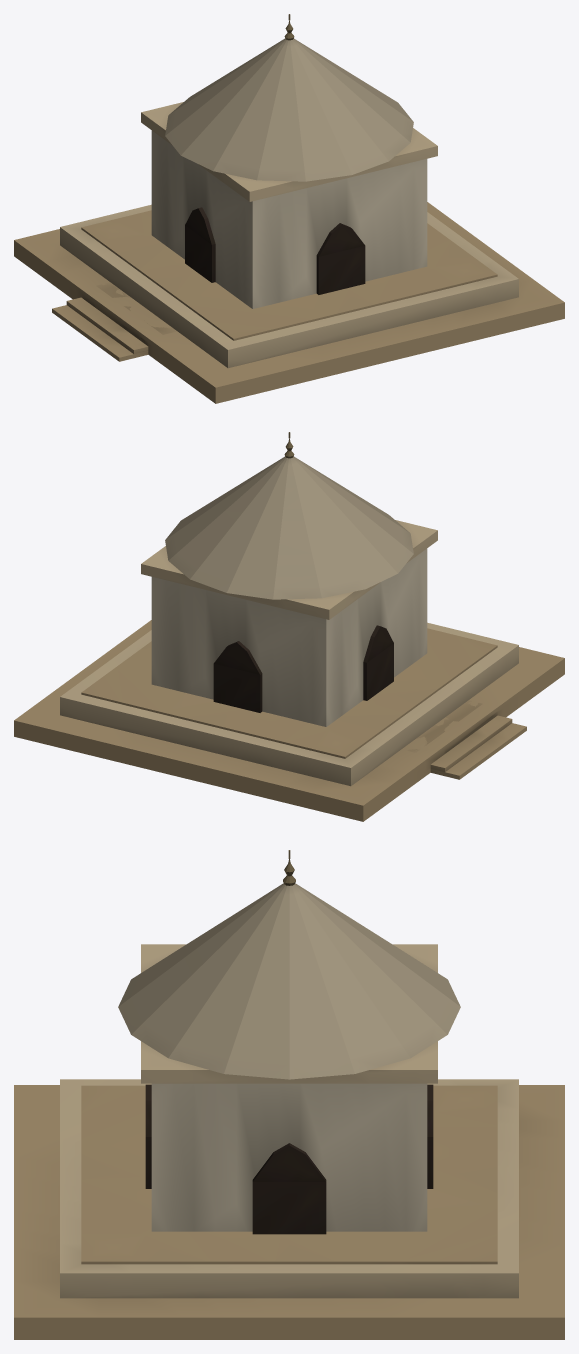
The model's file is nilometer.glb.
3 views of the same model, one above another, from view 1: azimuth 30°, elevation 25°; view 2: azimuth 150°, elevation 25°; view 3: azimuth 270°, elevation 25° (orthographic). The views are drawn at different scales.
Visible parts, largest first — view 1: p1_well-house, p2_roof, p0_quay; view 2: p1_well-house, p2_roof, p0_quay; view 3: p1_well-house, p2_roof, p0_quay.
Boxes of the visible parts, left/top/right/bottom form: p1_well-house: left=60, top=102, right=518, bottom=368; p2_roof: left=165, top=14, right=413, bottom=181; p0_quay: left=14, top=202, right=564, bottom=403; p1_well-house: left=60, top=520, right=518, bottom=786; p2_roof: left=165, top=432, right=413, bottom=599; p0_quay: left=14, top=620, right=564, bottom=821; p1_well-house: left=60, top=944, right=518, bottom=1298; p2_roof: left=118, top=850, right=460, bottom=1079; p0_quay: left=14, top=1085, right=564, bottom=1339.
Size of the model in its own units: 19.5 by 13.45 by 18.
